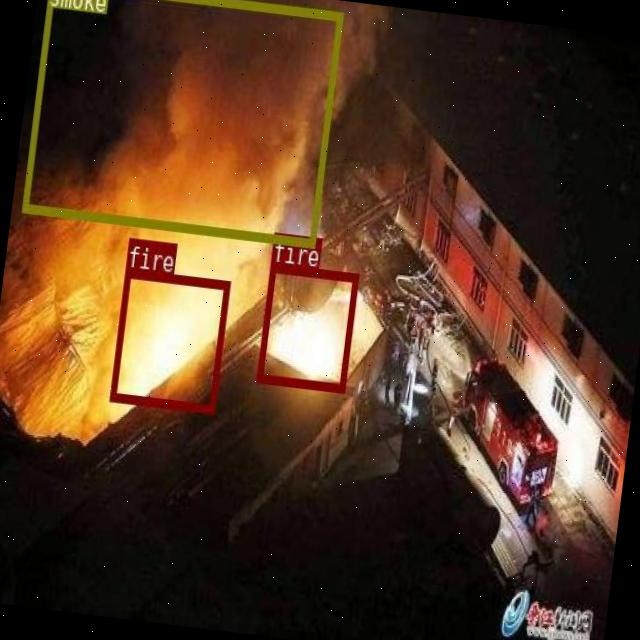fire: (108, 266, 228, 412), (255, 262, 358, 391)
smoke: (20, 0, 342, 245)
